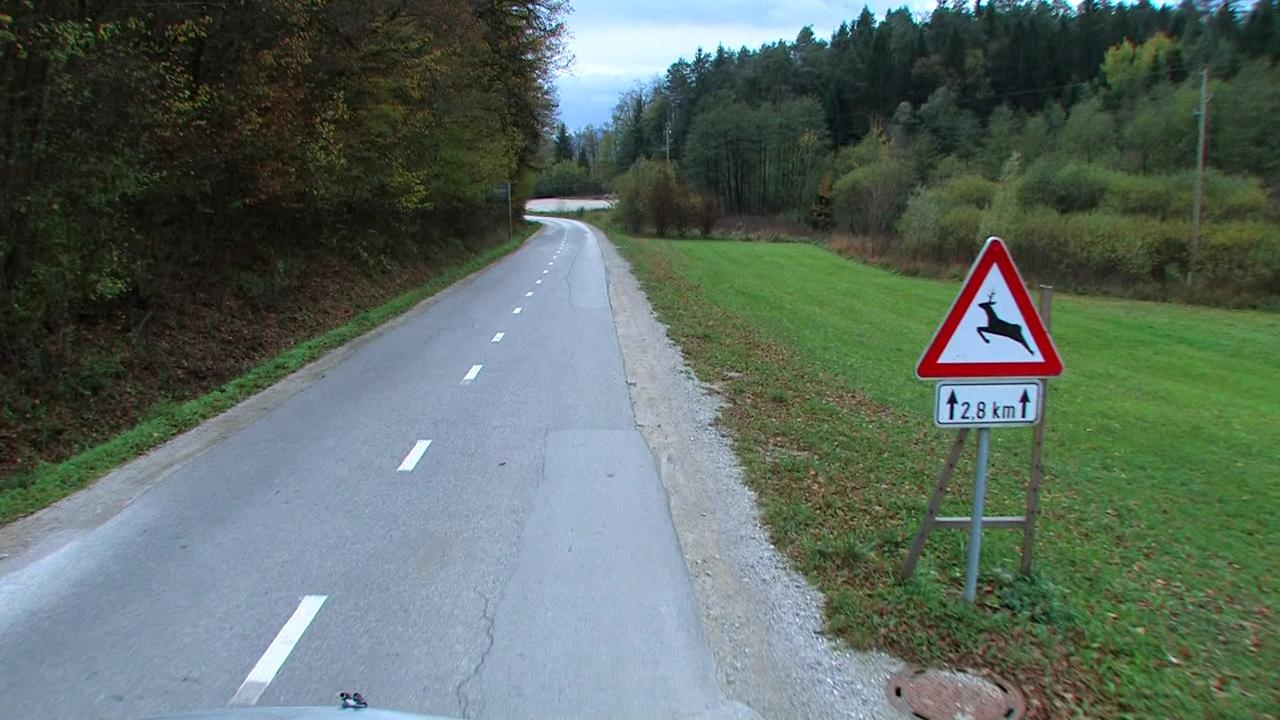Rectangle: (937, 380, 1043, 424)
Triangle: (916, 234, 1066, 380)
